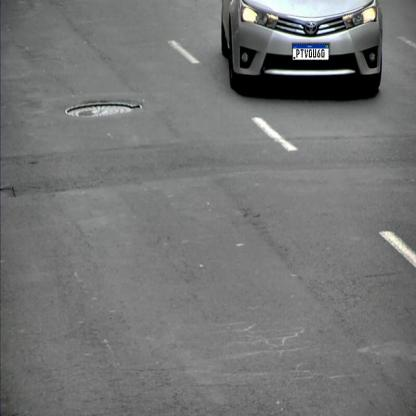PlacaM: (292, 44, 329, 60)
